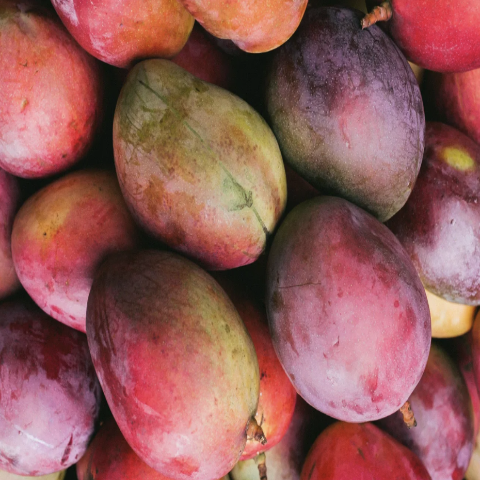mango: (64, 239, 279, 480), (264, 193, 436, 453), (90, 69, 308, 273), (257, 2, 435, 226)
